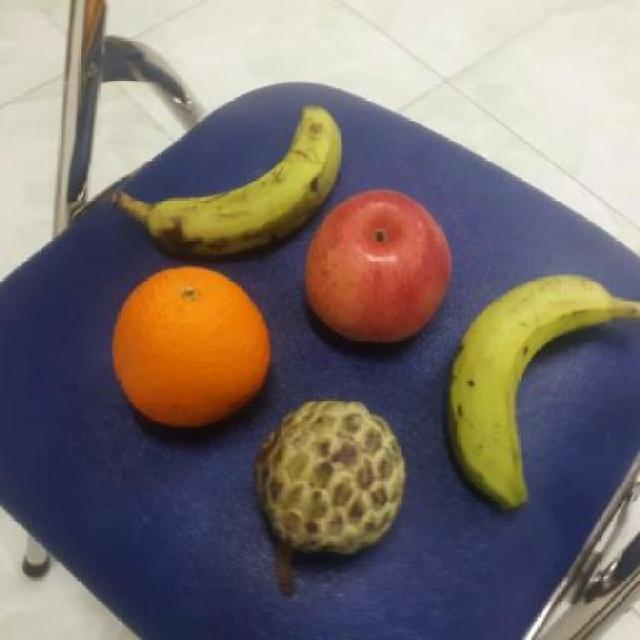apple: (300, 186, 454, 346)
banana: (440, 273, 617, 512), (142, 100, 347, 258)
oren: (102, 258, 276, 430)
sugar apple: (252, 392, 413, 558)
